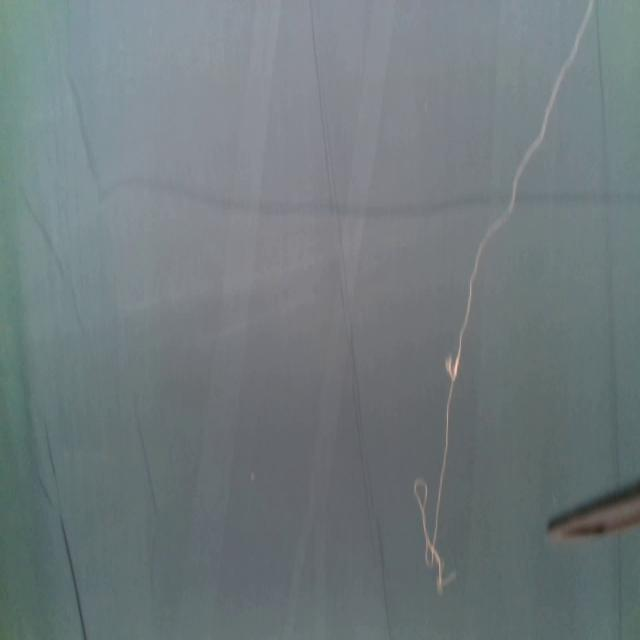color bleeding: (97, 164, 640, 224)
crease: (309, 0, 394, 640), (596, 2, 622, 490), (59, 510, 88, 638), (615, 533, 625, 640)
